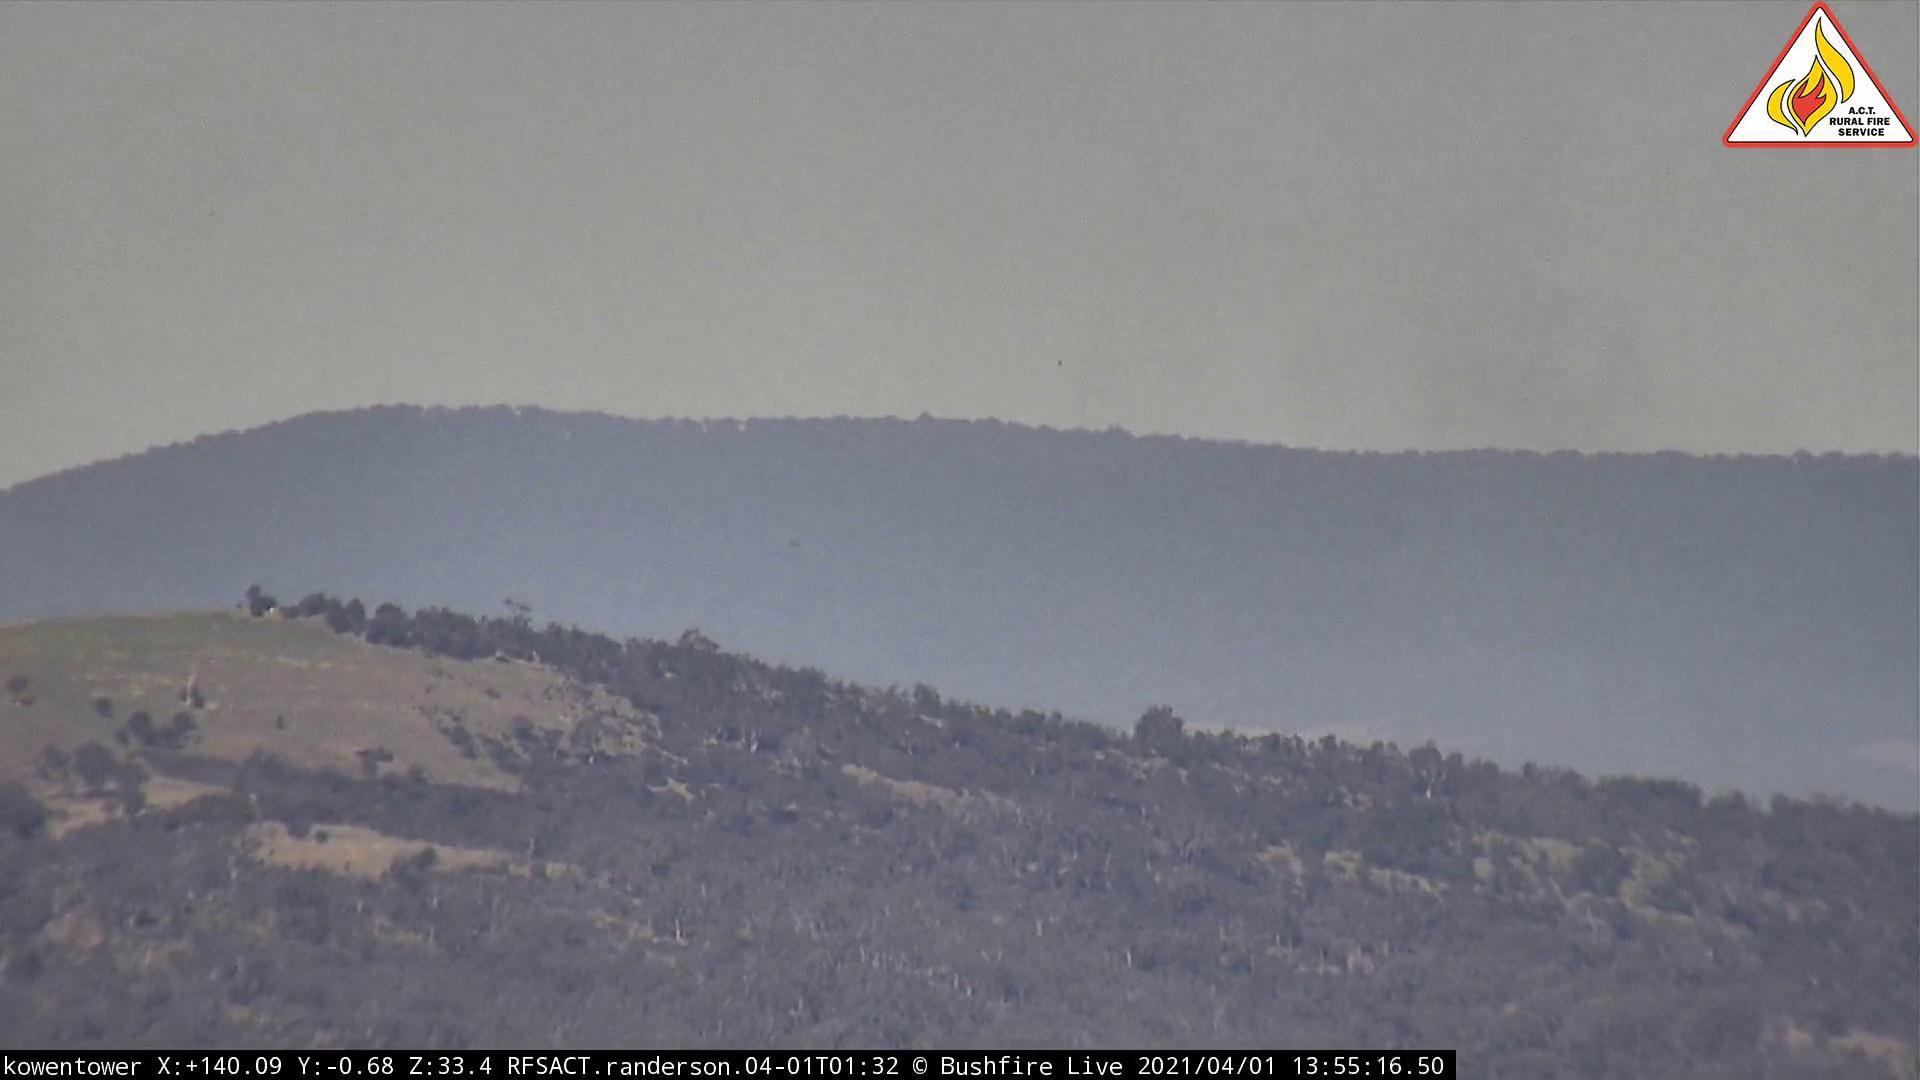Smoke: (1127, 3, 1693, 550)
